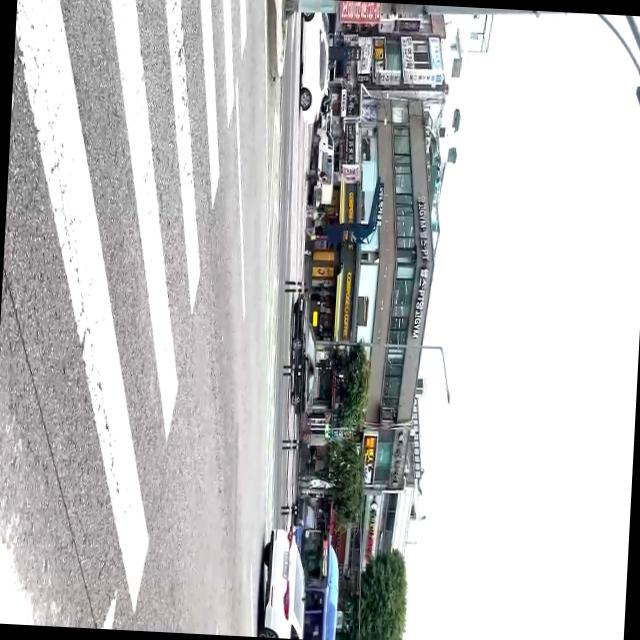building: (296, 86, 446, 432)
car: (257, 526, 309, 638), (295, 10, 331, 126), (287, 292, 319, 414)
